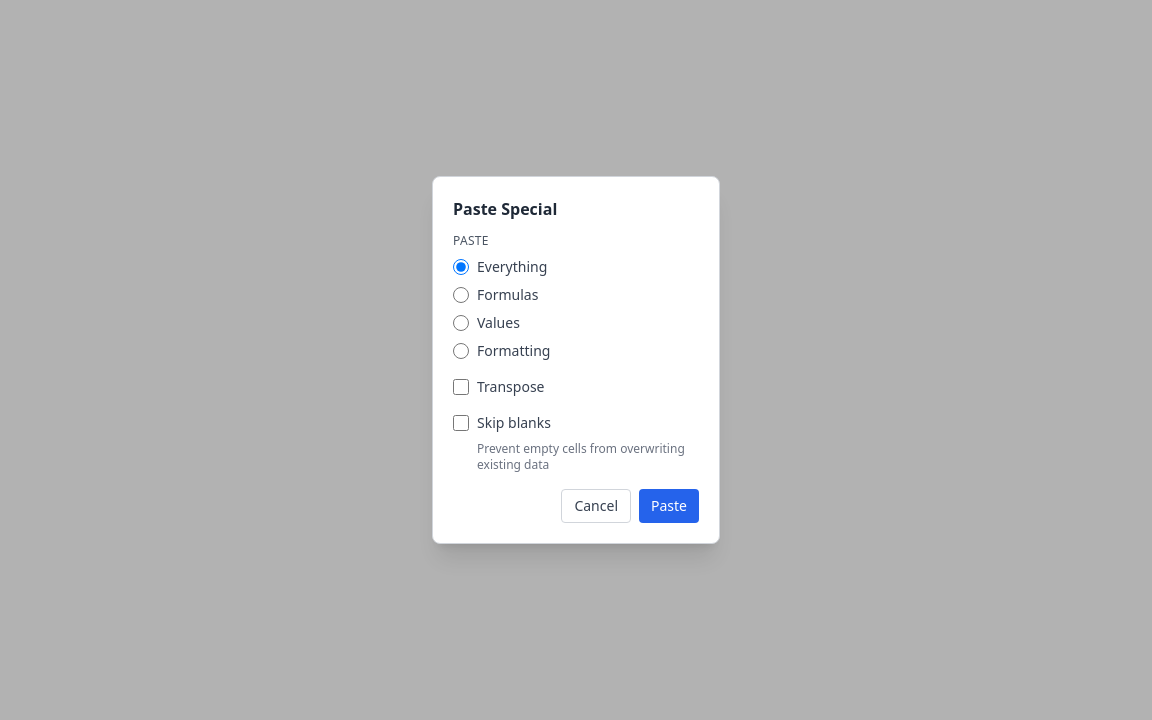
Test: PasteSpecialModal — Extended Options › selects "Formulas" mode when clicked
Step 1. Click the radio button labelled "Formulas" → (461, 295), box left=453, top=287, right=469, bottom=303
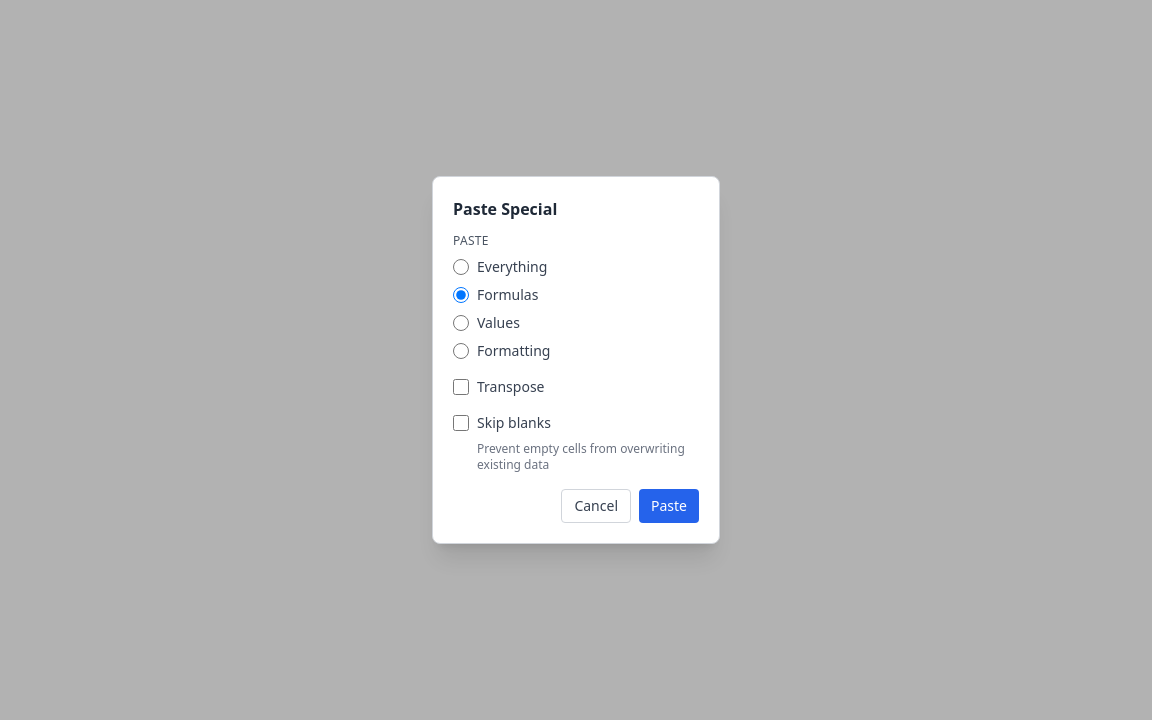
Now the radio button labelled "Formulas" is checked, box left=453, top=287, right=469, bottom=303
